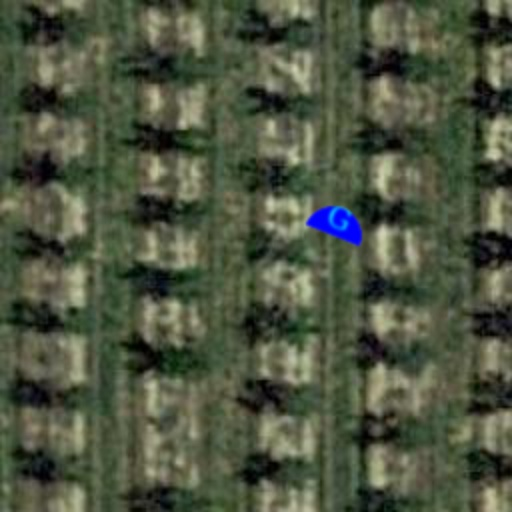semicircle: (298, 182, 378, 262)
